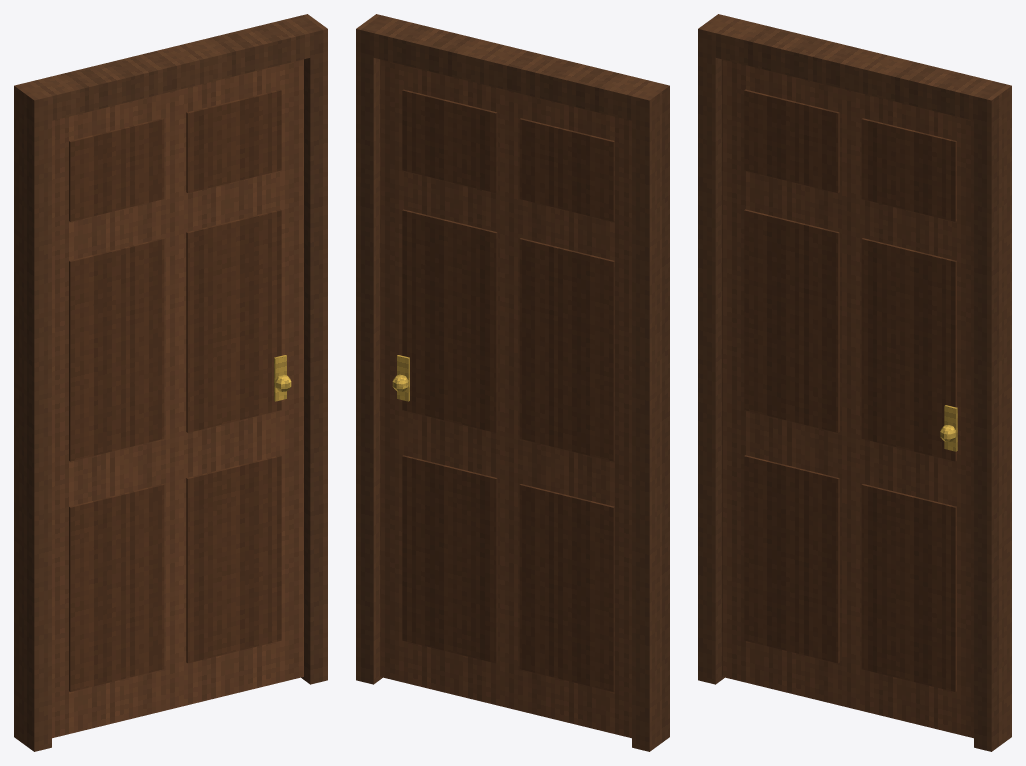
File: 09-door.glb
The picture shows the model from 3 angles, left to right: view 1: azimuth 30°, elevation 25°; view 2: azimuth 150°, elevation 25°; view 3: azimuth 330°, elevation 25°; orthographic projection.
Parts seen in each view (by area): view 1: Door, Frame left, Panel -0.0310, Panel -0.0311, Panel -0.0300, Panel -0.0301, Frame right, Frame top, Panel -0.0321, Panel -0.0320; view 2: Door, Frame left, Panel 0.02210, Panel 0.02211, Panel 0.02200, Panel 0.02201, Frame right, Frame top, Panel 0.02221, Panel 0.02220; view 3: Door, Frame right, Panel -0.0310, Panel -0.0311, Panel -0.0300, Panel -0.0301, Frame left, Frame top, Panel -0.0320, Panel -0.0321.
Boxes of the visible parts, x1,y1,x2,y2 form: Door: (52, 59, 303, 738); Frame left: (14, 81, 51, 751); Panel -0.0310: (69, 238, 164, 461); Panel -0.0311: (186, 209, 281, 432); Panel -0.0300: (69, 484, 164, 691); Panel -0.0301: (186, 455, 281, 663); Frame right: (291, 14, 327, 684); Frame top: (14, 14, 327, 124); Panel -0.0321: (186, 89, 281, 193); Panel -0.0320: (69, 118, 164, 221); Door: (380, 59, 631, 738); Frame left: (632, 81, 669, 751); Panel 0.02210: (519, 238, 614, 461); Panel 0.02211: (402, 209, 497, 432); Panel 0.02200: (519, 484, 614, 691); Panel 0.02201: (402, 455, 497, 663); Frame right: (356, 14, 393, 684); Frame top: (356, 14, 669, 124); Panel 0.02221: (402, 89, 497, 193); Panel 0.02220: (519, 118, 614, 221); Door: (722, 59, 973, 738); Frame right: (974, 81, 1011, 751); Panel -0.0310: (744, 209, 839, 432); Panel -0.0311: (861, 238, 956, 461); Panel -0.0300: (744, 455, 839, 663); Panel -0.0301: (861, 484, 956, 691); Frame left: (698, 14, 735, 684); Frame top: (698, 14, 1011, 124); Panel -0.0320: (744, 89, 839, 193); Panel -0.0321: (861, 118, 956, 221).
Bounding box in the file's own units: 1 × 2.12 × 0.1615.
Materials: 5 (5 with a texture image).
